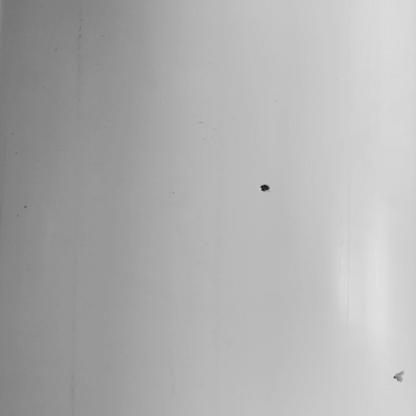kongdong: (243, 182, 275, 195)
